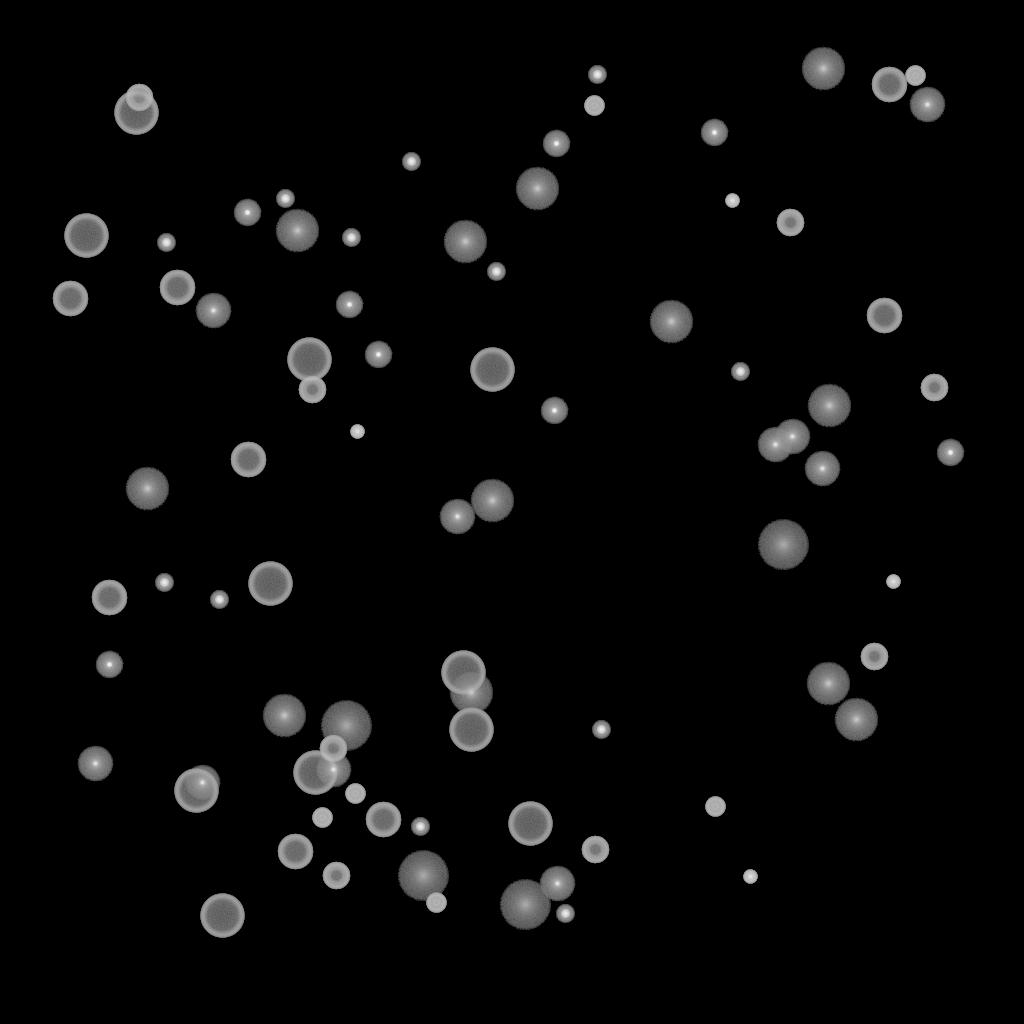depth:-10: (364, 341, 392, 369), (700, 119, 728, 147), (95, 651, 123, 679), (335, 291, 363, 319), (540, 397, 568, 425), (936, 439, 964, 467), (233, 199, 261, 227), (542, 130, 570, 158)
depth:-20: (731, 363, 749, 381), (588, 66, 606, 84), (210, 591, 228, 609), (487, 263, 505, 281), (411, 818, 429, 836), (157, 234, 175, 252), (276, 190, 294, 208), (342, 229, 360, 247), (556, 905, 574, 923), (155, 574, 173, 592), (402, 153, 420, 171), (592, 721, 610, 739)
depth:-30: (725, 194, 739, 208), (886, 575, 900, 589), (743, 870, 757, 884), (350, 425, 364, 439)
depth:-40: (705, 797, 725, 817), (905, 66, 925, 86), (426, 893, 446, 913), (345, 784, 365, 804), (312, 808, 332, 828), (584, 96, 604, 116)
depth:-50: (581, 836, 609, 864), (319, 735, 347, 763), (298, 376, 326, 404), (920, 374, 948, 402), (125, 84, 153, 112), (322, 862, 350, 890), (860, 643, 888, 671), (776, 209, 804, 237)
depth:-60: (159, 270, 195, 306), (277, 834, 313, 870), (871, 67, 907, 103), (91, 580, 127, 616), (365, 802, 401, 838), (230, 442, 266, 478), (52, 281, 88, 317), (866, 298, 902, 334)
depth:-70: (64, 214, 108, 258), (287, 338, 331, 382), (470, 348, 514, 392), (441, 651, 485, 695), (200, 894, 244, 938), (248, 562, 292, 606), (293, 751, 337, 795), (449, 708, 493, 752), (114, 91, 158, 135), (508, 802, 552, 846), (174, 769, 218, 813)
depth:0: (539, 866, 575, 902), (439, 499, 475, 535), (315, 752, 351, 788), (184, 765, 220, 801), (757, 427, 793, 463), (774, 419, 810, 455), (804, 451, 840, 487), (909, 87, 945, 123), (195, 293, 231, 329), (77, 746, 113, 782)
depth:10: (515, 167, 559, 211), (649, 300, 693, 344), (443, 220, 487, 264), (834, 698, 878, 742), (470, 479, 514, 523), (275, 209, 319, 253), (807, 384, 851, 428), (449, 671, 493, 715), (125, 467, 169, 511), (801, 47, 845, 91), (806, 662, 850, 706), (262, 694, 306, 738)
depth:20: (397, 851, 449, 901), (320, 701, 372, 751), (499, 880, 551, 930), (757, 520, 809, 570)
